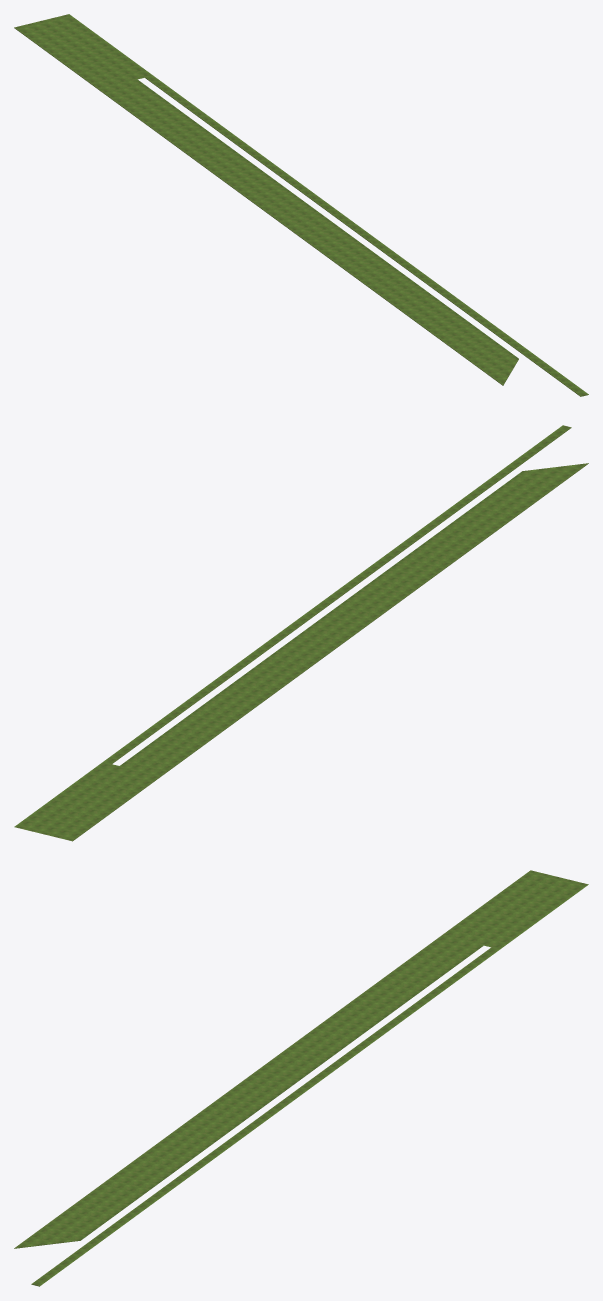
File: SM_Morin_Prato_Giardini_B2.fbx
The picture shows the model from 3 angles, top to bottom: view 1: azimuth 30°, elevation 25°; view 2: azimuth 150°, elevation 25°; view 3: azimuth 330°, elevation 25°; orthographic projection. The views are drawn at different scales.
Parts seen in each view (by area): view 1: SM_Morin_Prato_Giardini_B2; view 2: SM_Morin_Prato_Giardini_B2; view 3: SM_Morin_Prato_Giardini_B2.
Boxes of the visible parts, x1=… form: SM_Morin_Prato_Giardini_B2: x1=14, y1=14, x2=588, y2=396; SM_Morin_Prato_Giardini_B2: x1=14, y1=425, x2=588, y2=841; SM_Morin_Prato_Giardini_B2: x1=14, y1=870, x2=588, y2=1286.
Size of what is drawn, in the model's own units: 1895 by 30875 by 13.
1 material, 1 textured.
